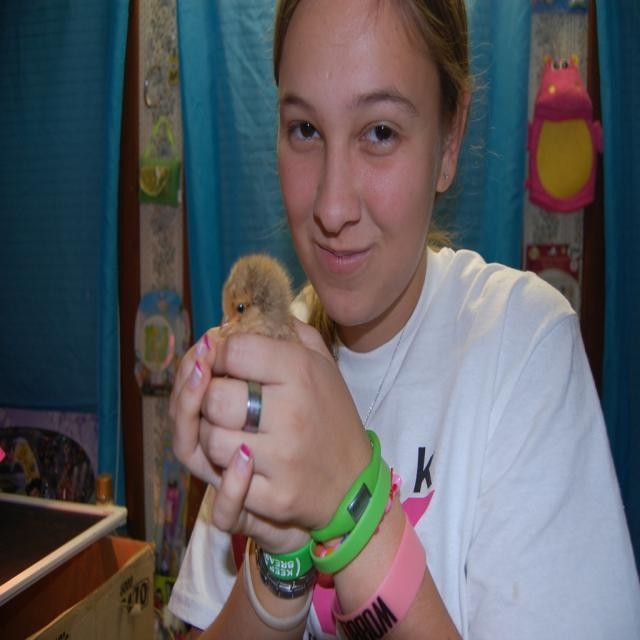no_helmet: (269, 103, 464, 172)
